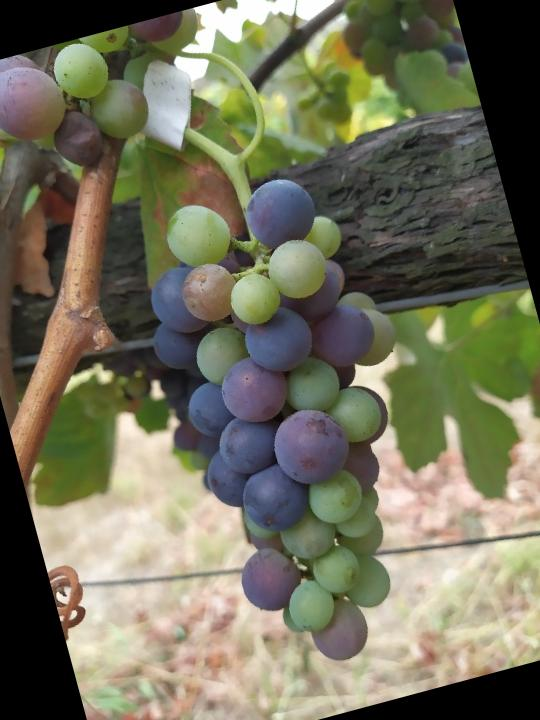grape: (117, 157, 479, 689)
